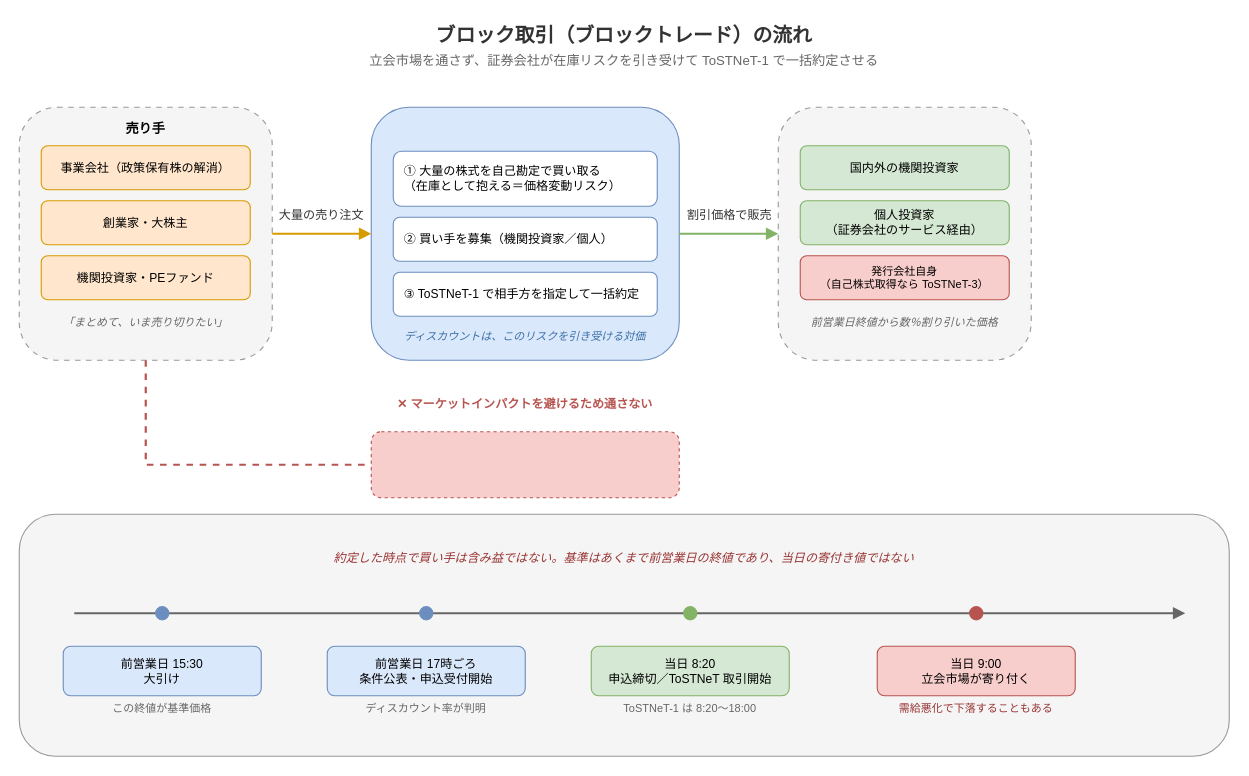
This 1249x776 diagram has some shape labels left out. The shapes that lost their labels are listed below. From the top down, each one's box as (x1, y1, x2, y2) in pixels, then its label:
(370, 106, 679, 360): 証券会社（マーケット部門）
(777, 106, 1031, 360): 買い手
(370, 431, 679, 498): 立会市場（ザラ場） ここに大量注文を出すと、自分の売りで自分が損をする
(18, 513, 1229, 756): 時間軸（個人向けブロックトレードの典型例）
